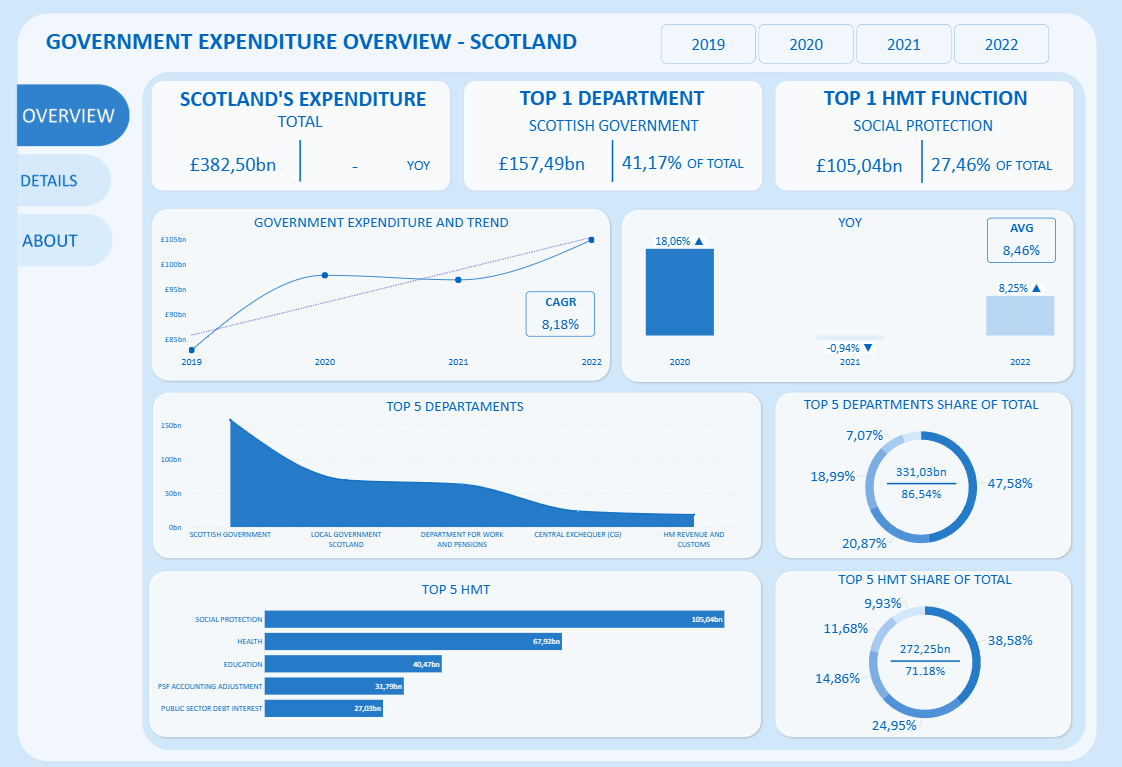

The dashboard page shown, as its layout file describes it:
{"tool":"powerbi","page":{"name":"SCOTLAND OVERVIEW","canvas":[4500,3100],"ordinal":0},"visuals":[{"type":"image","box":[20,50,4440,3020],"z":0},{"type":"shape","box":[3100,2275,1210,690],"z":1000},{"type":"shape","box":[2485,830,1835,715],"z":2000},{"type":"shape","box":[595,2275,2475,690],"z":3000},{"type":"shape","box":[3100,1560,1210,690],"z":4000},{"type":"shape","box":[605,825,1860,715],"z":5000},{"type":"shape","box":[3100,315,1220,465],"z":6000},{"type":"shape","box":[1852.5,315,1220,465],"z":7000},{"type":"shape","box":[605,315,1220,465],"z":8000},{"type":"shape","box":[610,1560,2460,690],"z":9000},{"type":"donutChart","title":"TOP 5 DEPARTMENTS SHARE OF TOTAL","fields":{"Y":["Measure.TOP 5 DEPARTAMENT"],"Category":["Dim_DEPARTMENT.DEPARTMENT"]},"box":[3110,1586.7,1173.3,663.3],"z":10000},{"type":"textbox","box":[190,105,2155,160],"z":11000},{"type":"card","fields":{"Values":["Measure.1 TOP EXENSIVE HMT NAME"]},"box":[3100,435,1210,125],"z":12000},{"type":"card","fields":{"Values":["Measure.SUM OF SPENDING"]},"box":[675,540,540,225],"z":13000},{"type":"card","fields":{"Values":["Measure.1 TOP EXENSIVE DEPARTMENT NAME"]},"box":[1860,445,1215,105],"z":14000},{"type":"textbox","box":[610,340,1210,150],"z":15000},{"type":"card","fields":{"Values":["Measure.YoY %"]},"box":[1230,600,405,110],"z":16000},{"type":"textbox","box":[2755,615,295,100],"z":17000},{"type":"shape","box":[1135,565,155,165],"z":18000},{"type":"textbox","box":[1635,625,185,85],"z":19000},{"type":"textbox","box":[605,440,1215,120],"z":20000},{"type":"card","fields":{"Values":["Measure.1 TOP EXENSIVE HMT VALUE"]},"box":[3215,605,420,105],"z":21000},{"type":"card","fields":{"Values":["Measure.1 TOP EXENSIVE DEPARTMENT VALUE"]},"box":[1970,575,420,145],"z":22000},{"type":"textbox","box":[3110,335,1210,125],"z":23000},{"type":"textbox","box":[1860,335,1220,125],"z":24000},{"type":"card","fields":{"Values":["Measure.% 1 TOP EXENSIVE HMT SPENDING"]},"box":[3730,605,250,95],"z":25000},{"type":"card","fields":{"Values":["Measure.% 1 TOP EXENSIVE DEPARTMENT SPENDING"]},"box":[2465,590,310,110],"z":26000},{"type":"areaChart","title":"TOP 5 DEPARTAMENTS","fields":{"Category":["Dim_DEPARTMENT.DEPARTMENT"],"Y":["Sum(DATA.FY VALUE)"]},"box":[649.6,1588.3,2363.6,620.2],"z":27000},{"type":"barChart","title":"TOP 5 HMT","fields":{"Category":["Dim_HMT.HMT FUNCTION"],"Y":["Sum(DATA.FY VALUE)"]},"box":[630.8,2324.2,2412.7,590.3],"z":28000},{"type":"lineChart","title":"GOVERNMENT EXPENDITURE AND TREND","fields":{"Category":["Dim_Calendar.Year"],"Y":["Measure.SUM OF SPENDING"]},"box":[650,855,1775,630],"z":29000},{"type":"lineClusteredColumnComboChart","title":"YOY","fields":{"Category":["Dim_Calendar.Year"],"Y":["Measure.YoY %"]},"box":[2545,855,1735,630],"z":30000},{"type":"shape","box":[2386.1,565.5,154.2,167.1],"z":31000},{"type":"shape","box":[3632.7,565.5,154.2,167.1],"z":32000},{"type":"textbox","box":[3990,625,255,115],"z":33000},{"type":"advancedSlicerVisual","fields":{"Values":["Dim_Calendar.Year"]},"box":[2615,79.6,1621.8,184.4],"z":34000},{"type":"card","fields":{"Values":["Measure.TOP 5 DEPARTAMENT"]},"box":[3560,1830,276.7,110],"z":35000},{"type":"shape","box":[3560,1856.7,276.7,166.7],"z":36000},{"type":"card","fields":{"Values":["Measure.PERCENTAGE OF TOTAL"]},"box":[3560,1946.7,276.7,60],"z":37000},{"type":"donutChart","title":"TOP 5 HMT SHARE OF TOTAL","fields":{"Y":["Measure.TOP 5 HMT"],"Category":["Dim_HMT.HMT FUNCTION"]},"box":[3123.3,2286.7,1173.3,663.3],"z":38000},{"type":"shape","box":[3573.3,2566.7,276.7,166.7],"z":39000},{"type":"card","fields":{"Values":["Measure.TOP 5 HMT"]},"box":[3576.7,2540,276.7,110],"z":40000},{"type":"card","fields":{"Values":["Measure.PERCENTAGE OF TOTAL HMT"]},"box":[3573.3,2650,276.7,60],"z":41000},{"type":"image","box":[46.7,316.7,490,300],"z":42000},{"type":"image","box":[46.7,573.3,415,300],"z":43000},{"type":"card","title":"CAGR","fields":{"Values":["Measure.CAGR"]},"box":[2113.3,1170,276.7,180],"z":44000},{"type":"image","box":[50,816.7,416.7,300],"z":45000},{"type":"card","title":"AVG","fields":{"Values":["Measure.AVERAGEYOY"]},"box":[3960,875,275,180],"z":46000}]}

Visuals, with their boxes in screenshot pixels (x1, y1, x2, y2), scaled from the page's 4500x3100 canvas onto the 1122x767 screenshot:
image: left=5, top=12, right=1112, bottom=760
shape: left=773, top=563, right=1075, bottom=734
shape: left=620, top=205, right=1077, bottom=382
shape: left=148, top=563, right=765, bottom=734
shape: left=773, top=386, right=1075, bottom=557
shape: left=151, top=204, right=615, bottom=381
shape: left=773, top=78, right=1077, bottom=193
shape: left=462, top=78, right=766, bottom=193
shape: left=151, top=78, right=455, bottom=193
shape: left=152, top=386, right=765, bottom=557
"TOP 5 DEPARTMENTS SHARE OF TOTAL" donutChart: left=775, top=393, right=1068, bottom=557
textbox: left=47, top=26, right=585, bottom=66
card - Measure.1 TOP EXENSIVE HMT NAME: left=773, top=108, right=1075, bottom=139
card - Measure.SUM OF SPENDING: left=168, top=134, right=303, bottom=189
card - Measure.1 TOP EXENSIVE DEPARTMENT NAME: left=464, top=110, right=767, bottom=136
textbox: left=152, top=84, right=454, bottom=121
card - Measure.YoY %: left=307, top=148, right=408, bottom=176
textbox: left=687, top=152, right=760, bottom=177
shape: left=283, top=140, right=322, bottom=181
textbox: left=408, top=155, right=454, bottom=176
textbox: left=151, top=109, right=454, bottom=139
card - Measure.1 TOP EXENSIVE HMT VALUE: left=802, top=150, right=906, bottom=176
card - Measure.1 TOP EXENSIVE DEPARTMENT VALUE: left=491, top=142, right=596, bottom=178
textbox: left=775, top=83, right=1077, bottom=114
textbox: left=464, top=83, right=768, bottom=114
card - Measure.% 1 TOP EXENSIVE HMT SPENDING: left=930, top=150, right=992, bottom=173
card - Measure.% 1 TOP EXENSIVE DEPARTMENT SPENDING: left=615, top=146, right=692, bottom=173
"TOP 5 DEPARTAMENTS" areaChart: left=162, top=393, right=751, bottom=546
"TOP 5 HMT" barChart: left=157, top=575, right=759, bottom=721
"GOVERNMENT EXPENDITURE AND TREND" lineChart: left=162, top=212, right=605, bottom=367
"YOY" lineClusteredColumnComboChart: left=635, top=212, right=1067, bottom=367
shape: left=595, top=140, right=633, bottom=181
shape: left=906, top=140, right=944, bottom=181
textbox: left=995, top=155, right=1058, bottom=183
advancedSlicerVisual - Dim_Calendar.Year: left=652, top=20, right=1056, bottom=65
card - Measure.TOP 5 DEPARTAMENT: left=888, top=453, right=957, bottom=480
shape: left=888, top=459, right=957, bottom=501
card - Measure.PERCENTAGE OF TOTAL: left=888, top=482, right=957, bottom=496
"TOP 5 HMT SHARE OF TOTAL" donutChart: left=779, top=566, right=1071, bottom=730
shape: left=891, top=635, right=960, bottom=676
card - Measure.TOP 5 HMT: left=892, top=628, right=961, bottom=656
card - Measure.PERCENTAGE OF TOTAL HMT: left=891, top=656, right=960, bottom=671
image: left=12, top=78, right=134, bottom=153
image: left=12, top=142, right=115, bottom=216
"CAGR" card: left=527, top=289, right=596, bottom=334
image: left=12, top=202, right=116, bottom=276
"AVG" card: left=987, top=216, right=1056, bottom=261
